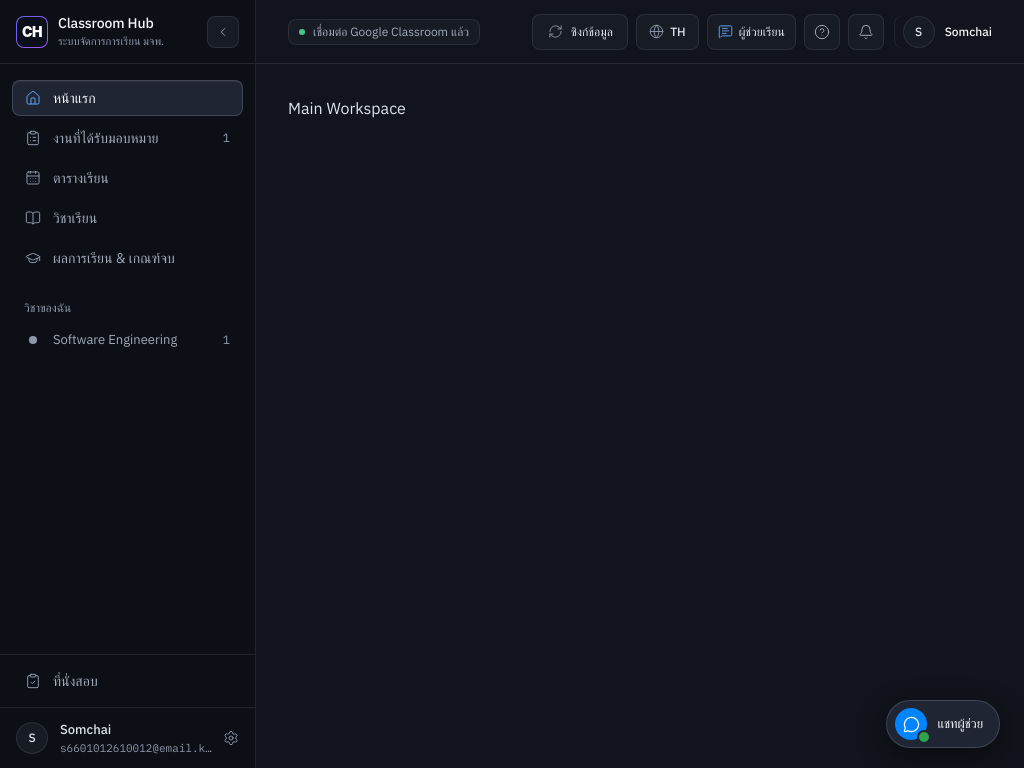
Study Assistant Drawer & Gemini Frontend Service › minimizes into a Messenger-style bottom chat bar and restores active conversation
Click the button with test id "floating-assistant-trigger" at (943, 724), box left=886, top=700, right=1000, bottom=748
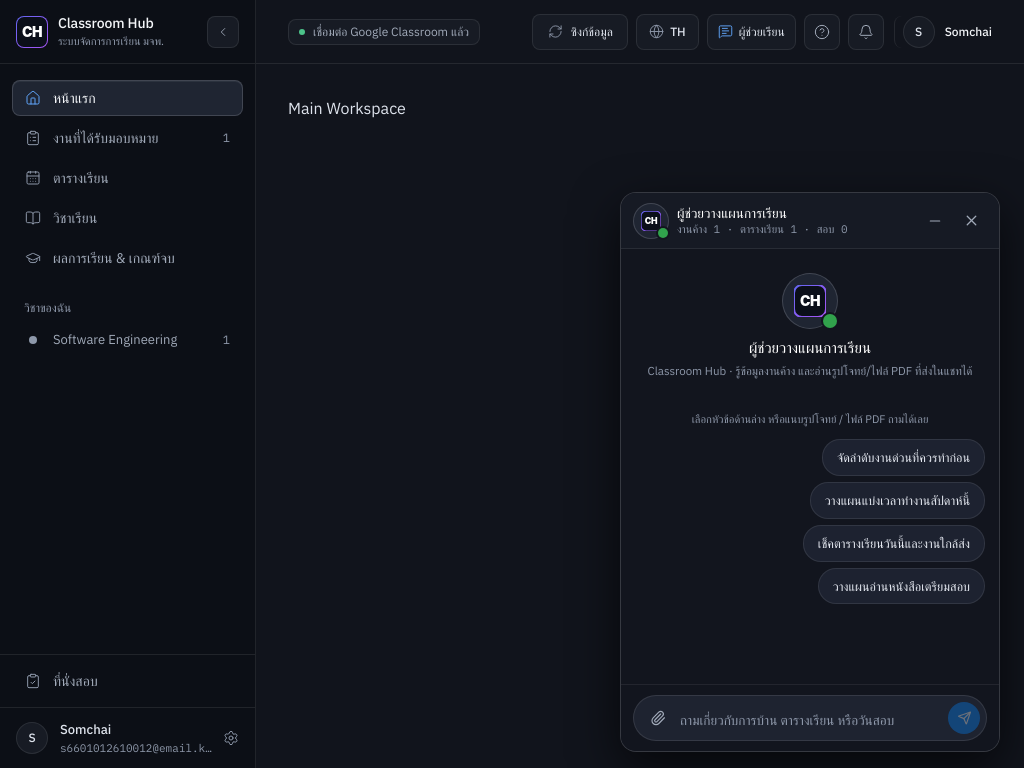
Check: the dialog "ผู้ช่วยวางแผนการเรียน" is shown, box left=620, top=192, right=1000, bottom=752
Click the button named "ย่อหน้าต่างแชท" at (935, 220), box left=919, top=204, right=951, bottom=236
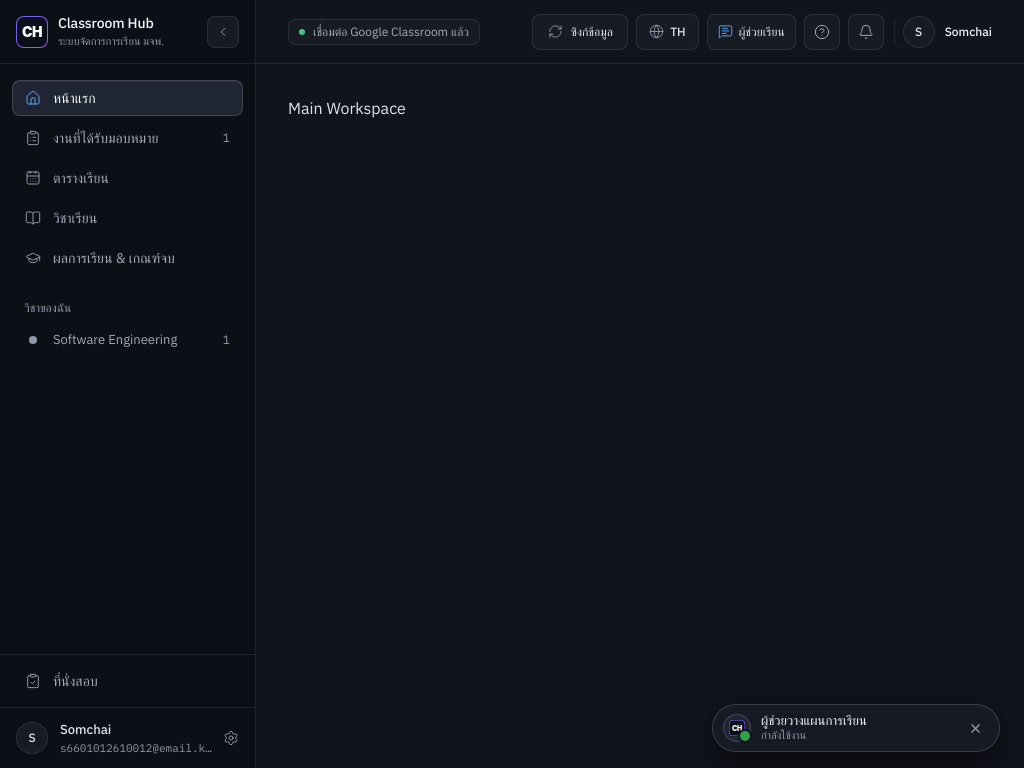
Check: the element named "แชทผู้ช่วยการเรียนที่ย่อไว้" is shown, box left=712, top=704, right=1000, bottom=752
Note: Click minimized tab to restore full chat popup
Click the button "ผู้ช่วยวางแผนการเรียน กำลังใช้งาน" at (838, 728), box left=723, top=713, right=953, bottom=743
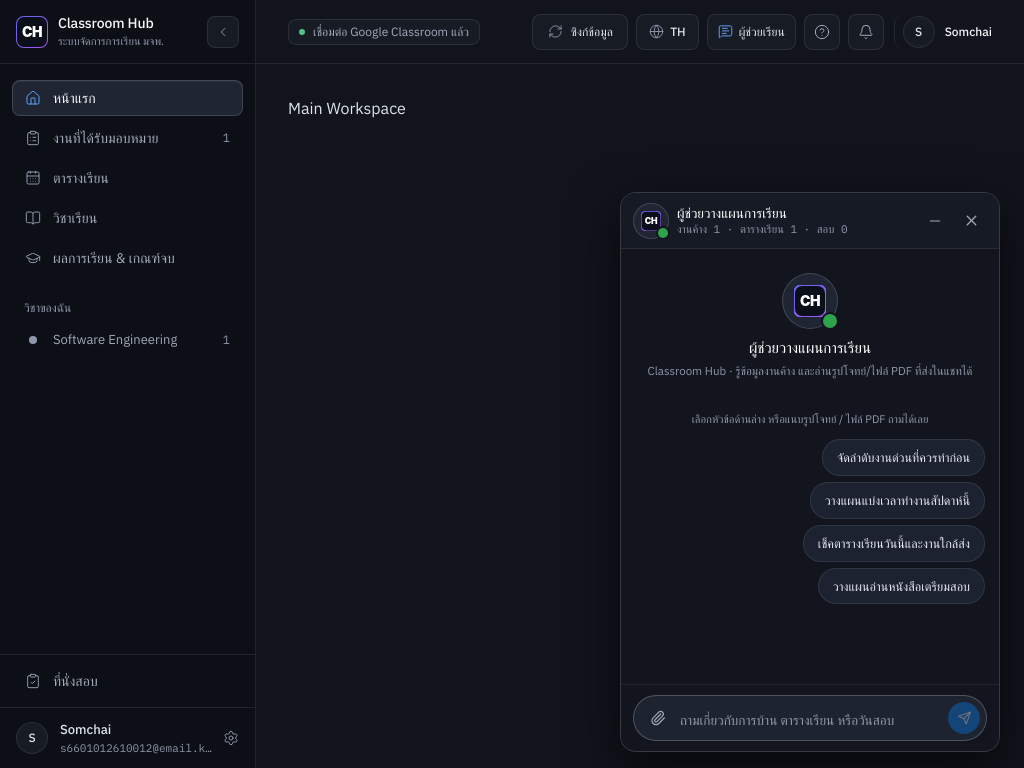
Check: the dialog "ผู้ช่วยวางแผนการเรียน" is shown, box left=620, top=192, right=1000, bottom=752
